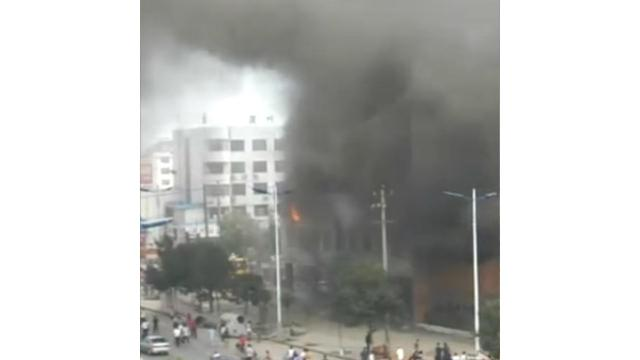smoke: (282, 70, 496, 194), (159, 0, 503, 74), (400, 196, 472, 272), (303, 195, 342, 227)
